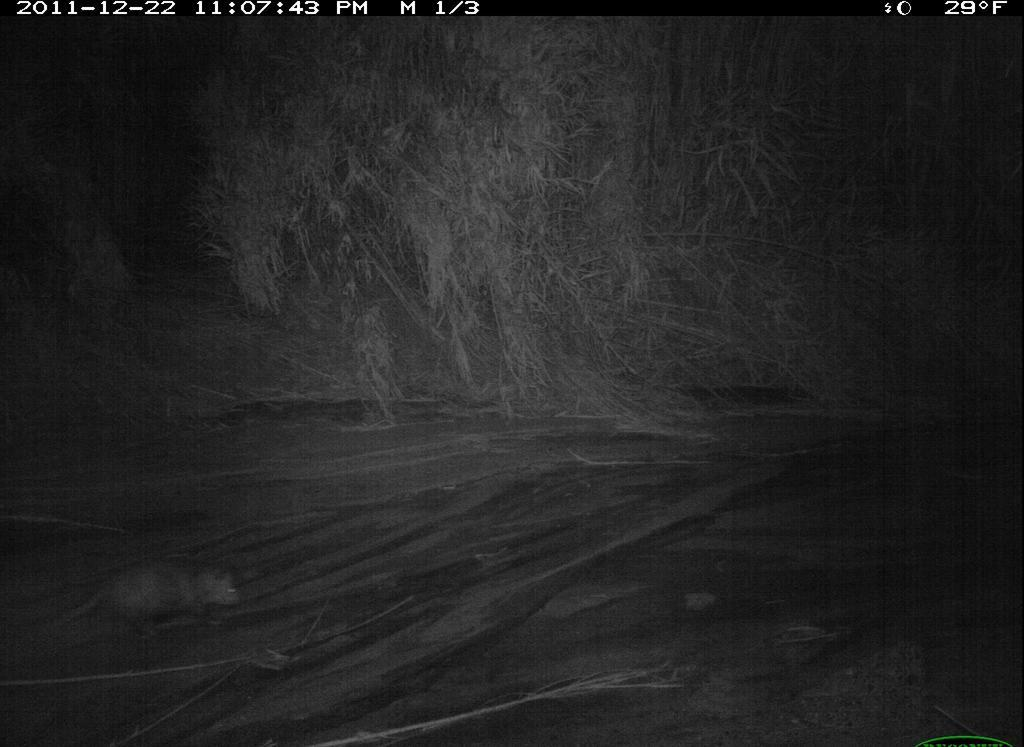opossum: (30, 550, 254, 658)
